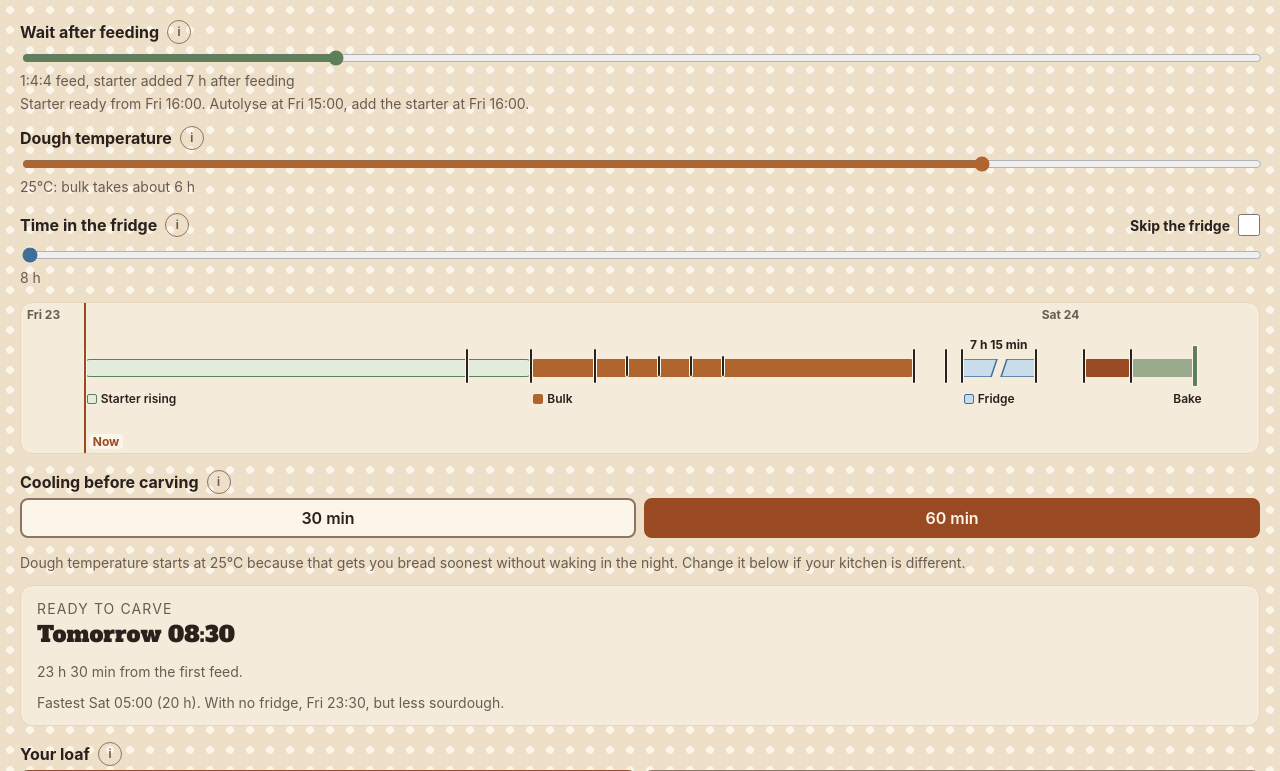
Test: Start now › warns about quick feeds
Set the slider labelled "Wait after feeding" to "5": {"x": 132, "y": 58} x1=22 y1=50 x2=1262 y2=66
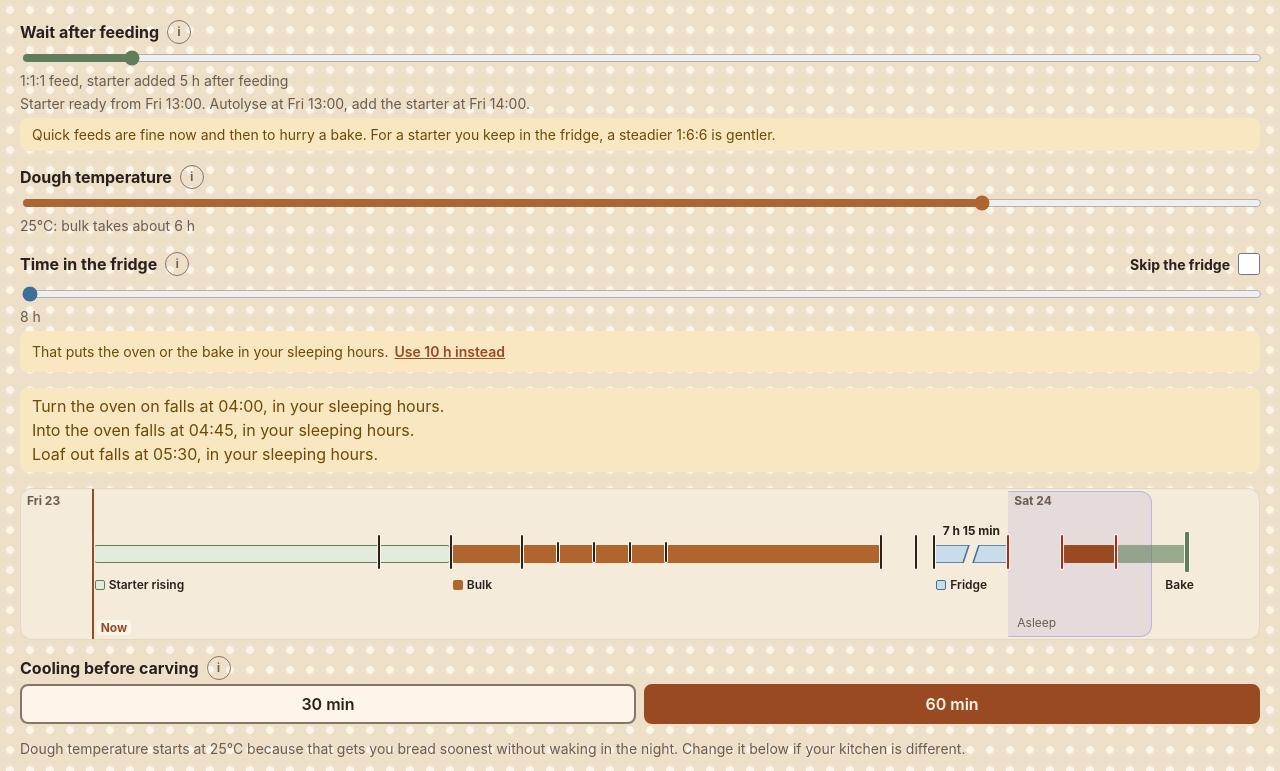
Expected: the text "Quick feeds are fine" is shown, x1=32 y1=126 x2=776 y2=143
